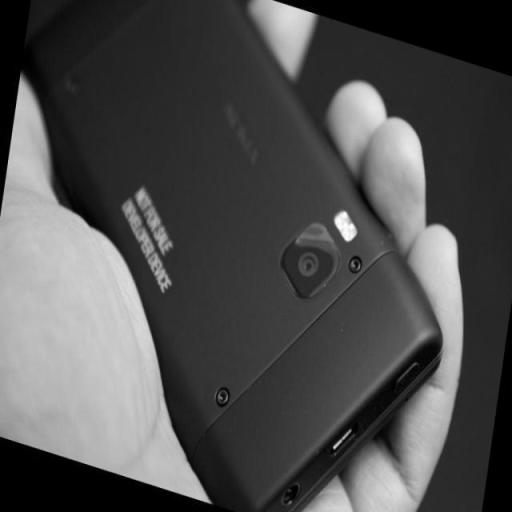phone: (25, 0, 445, 511)
